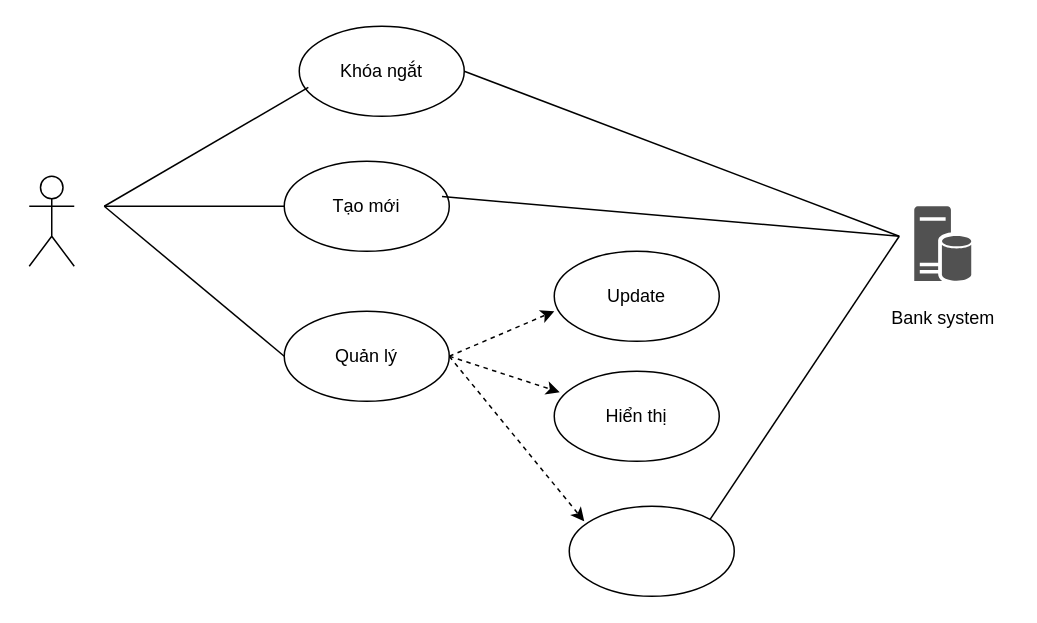
Image size: 1037x623. Some labels were removed from this diagram. The shapes that lost their labels are listed below. From the top down, each one's box as (x1, y1, x2, y2) in pixels, then its label:
(28, 175, 74, 266): Admin
(568, 505, 734, 596): Sync
